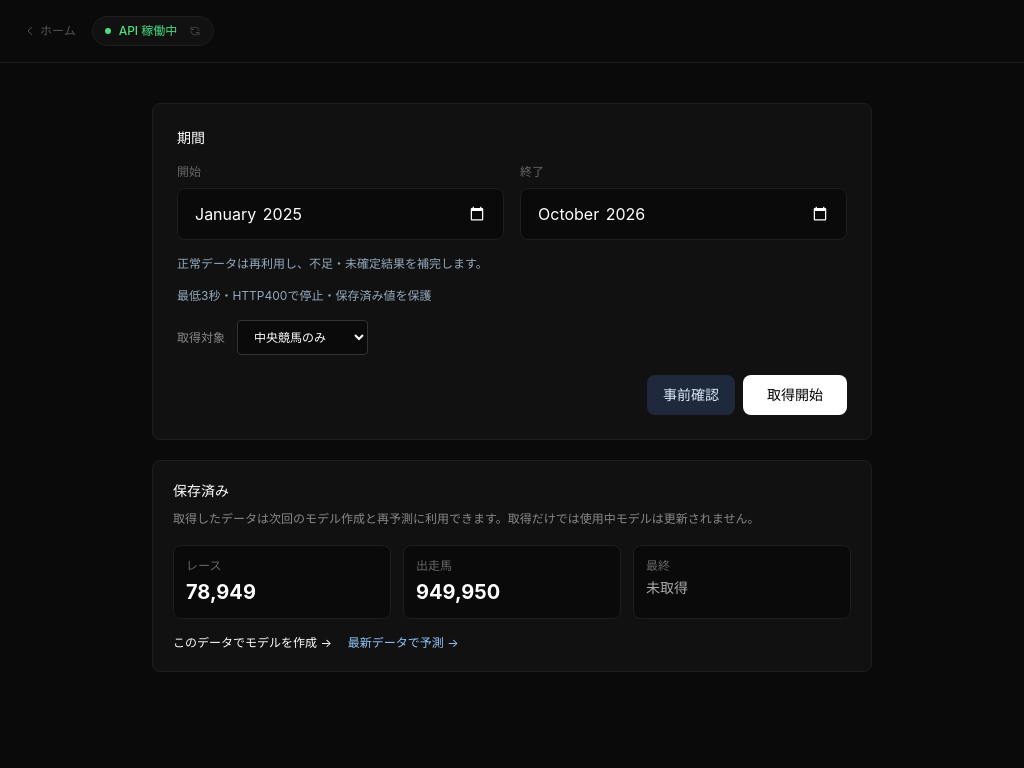
it: collection acquisition-only presentation › does not send an all-venue preflight when the fresh safety check fails
Expected: the button with test id "dry-run-button" is enabled, [647,375,735,415]
Select "中央・地方競馬" in the dropdown with test id "scrape-race-scope": (302, 338) [237,320,368,355]
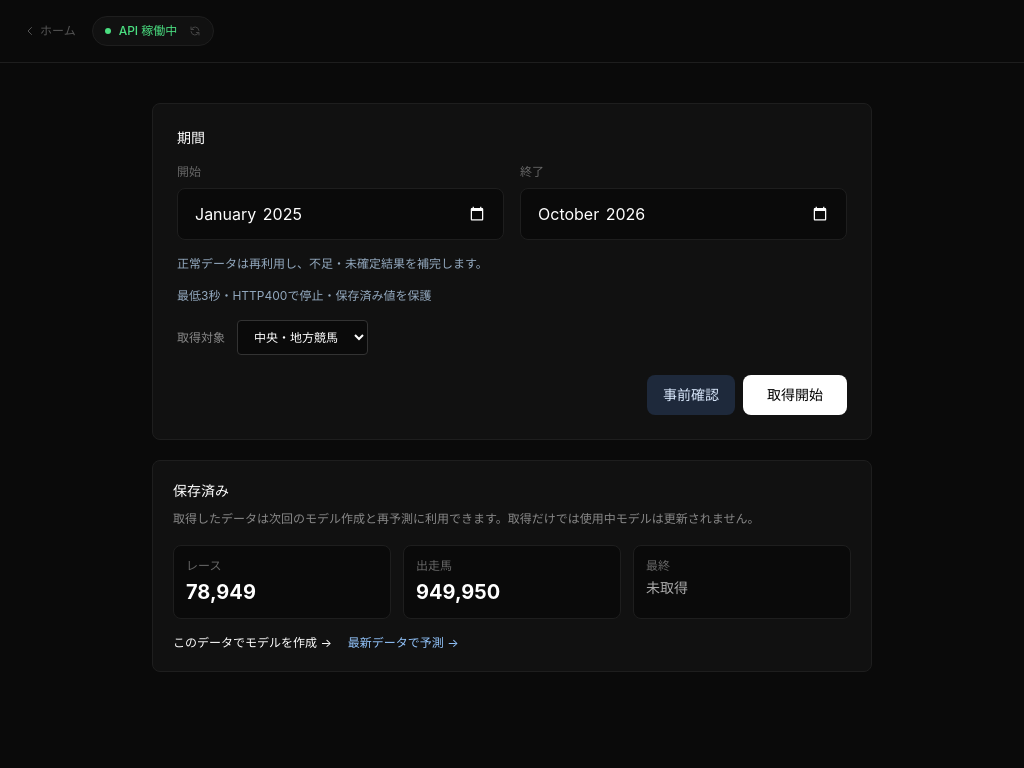
Click the button with test id "dry-run-button": (691, 395) [647,375,735,415]
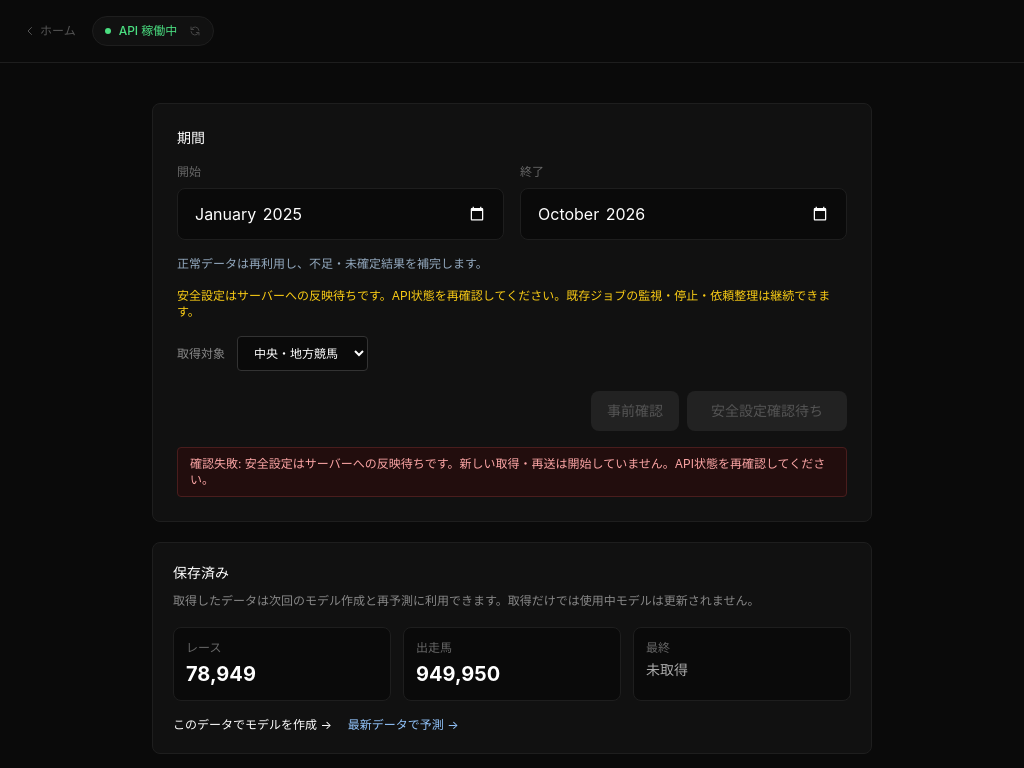
Result: the message with test id "scrape-safety-policy" shows "反映待ち" at [177,288,830,319]
Result: the button with test id "dry-run-button" is disabled at [591,391,679,431]
